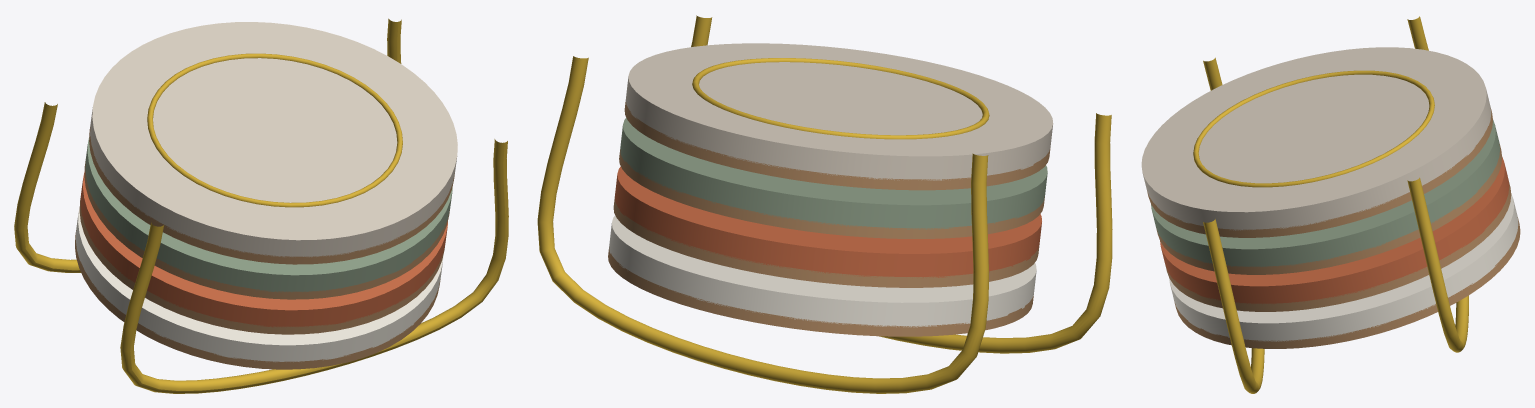
File: artisan_coasters.glb
3 views of the same model, side by side, from view 1: azimuth 30°, elevation 25°; view 2: azimuth 150°, elevation 25°; view 3: azimuth 270°, elevation 25° (orthographic). The views are drawn at different scales.
Bounding box in the file's own units: 1.83 × 1.18 × 1.63.
